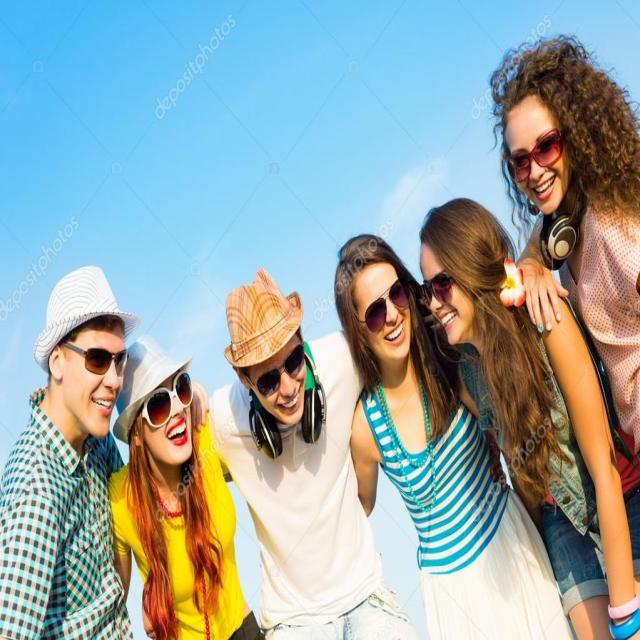hat: (34, 264, 140, 440), (223, 268, 308, 427), (111, 336, 199, 468)
head: (419, 204, 509, 350), (498, 63, 581, 212), (334, 235, 417, 368)
